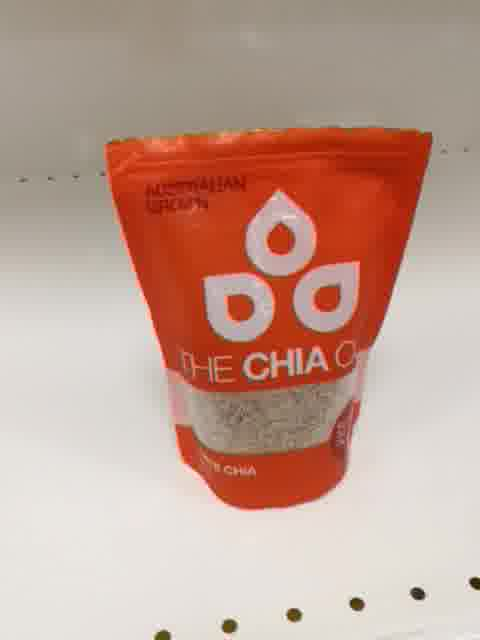whitechia: (104, 120, 435, 510)
